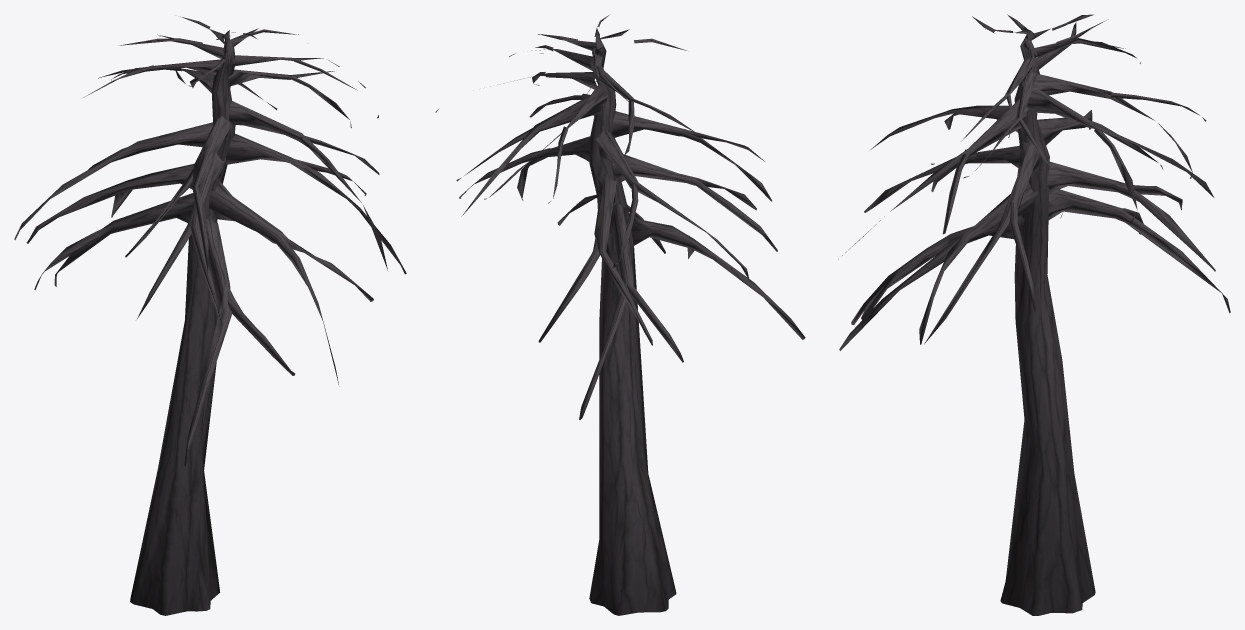
File: dead_tree_free_model_lo.glb
The picture shows the model from 3 angles, left to right: view 1: azimuth 30°, elevation 25°; view 2: azimuth 150°, elevation 25°; view 3: azimuth 270°, elevation 25°; orthographic projection. The views are drawn at different scales.
Parts seen in each view (by area): view 1: DeadTree_4; view 2: DeadTree_4; view 3: DeadTree_4.
Boxes of the visible parts, left/top/right/bottom form: DeadTree_4: left=14, top=16, right=406, bottom=615; DeadTree_4: left=435, top=15, right=805, bottom=615; DeadTree_4: left=838, top=14, right=1230, bottom=615.
Size of the model in its own units: 7.92 by 12.69 by 7.67.
Materials: 1 (1 with a texture image).
